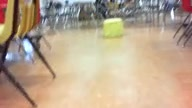cube: (103, 18, 123, 38)
